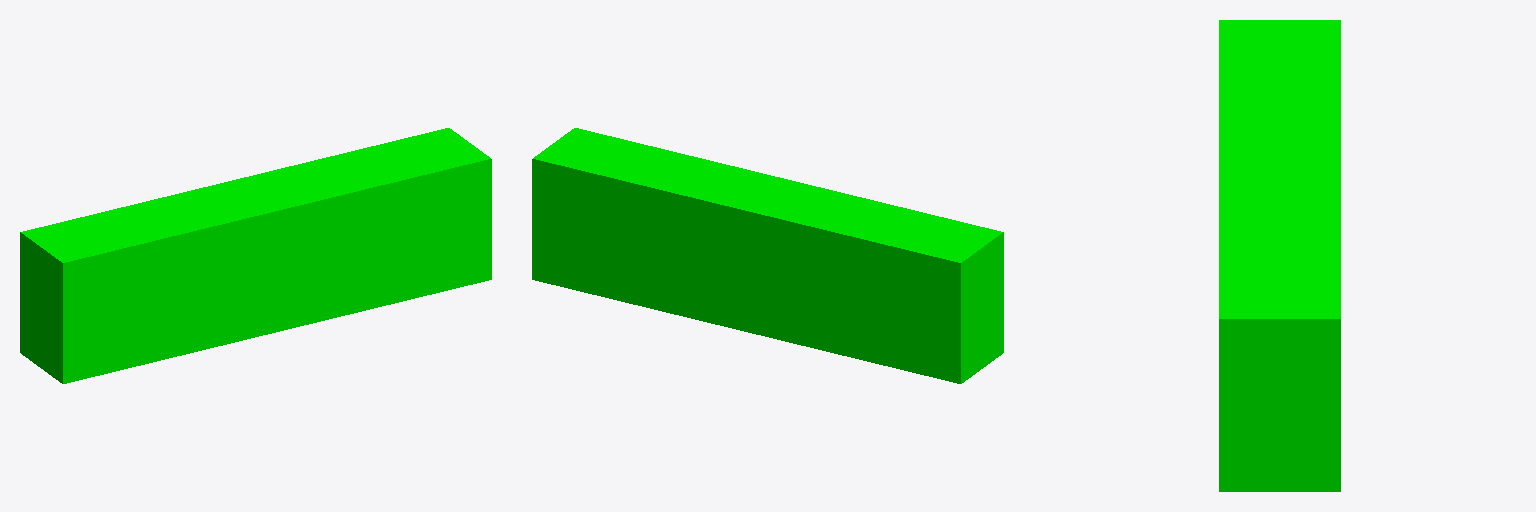
URDF robot description (saxton_cav_truck):
<?xml version="1.0"?>
<!--
  Copyright (C) 2018 LEIDOS.

  Licensed under the Apache License, Version 2.0 (the "License"); you may not
  use this file except in compliance with the License. You may obtain a copy of
  the License at

  http://www.apache.org/licenses/LICENSE-2.0

  Unless required by applicable law or agreed to in writing, software
  distributed under the License is distributed on an "AS IS" BASIS, WITHOUT
  WARRANTIES OR CONDITIONS OF ANY KIND, either express or implied. See the
  License for the specific language governing permissions and limitations under
  the License.
-->
<!-- Green Cadillac Robot Description File
    This file defines the static transformations of the CAV platform operating on the green cadillac.
    These are only example values at this time. This is to test if it works
-->
<robot name="saxton_cav_truck"> <!-- TODO Verify heights-->
  <!-- Frames -->
  <link name="base_link" /> <!-- Back Axle -->
  <link name="host_vehicle"/> <!-- Bounding box center of vehicle (used in BSM)-->
  <link name="aabb_center"> <!-- Center of the car's axis aligned bounding box -->
      <!-- Simple visual to draw box around car transforms  in rviz -->
    <visual>
      <origin xyz="0 0 0" rpy="0 0 0" />
      <geometry>
        <box size="8.74 1.5 2.362" />
      </geometry>
      <material name="Green">
        <color rgba="0.0 1.0 0.0 1.0"/>
      </material>
    </visual>
  </link>
  <link name="vehicle_front" /> <!-- Center of vehicle grill -->
  <link name="pinpoint" /> <!-- Position Sensor (Accounting for internal transforms) -->
  <!-- Radars -->
  <link name="f_lrr_frame"/> <!-- Front Long Range Radar -->

   <!-- base_link -> host_vehicle Transform -->
  <joint name="base_link_to_host_vehicle" type="fixed">
    <parent link="base_link" />
    <child link="host_vehicle" />
    <!-- Arguments (x y z roll pitch yaw) -->
    <!-- Units: Meters and Rad-->
    <origin xyz="3.37 0 -0.3556" rpy="3.14159265359 0 0" />
  </joint>

  <!-- host_vehicle -> aabb_center Transform -->
  <joint name="host_vehicle_to_aabb_center" type="fixed">
    <parent link="host_vehicle" />
    <child link="aabb_center" />
    <!-- Arguments (x y z roll pitch yaw) -->
    <!-- Units: Meters and Rad-->
    <origin xyz="0 0 -1.1" rpy="3.14159265359 0 0" />
  </joint>

  <!-- host_vehicle -> vehicle_front Transform vehicle_front is FLU-->
  <joint name="host_vehicle_to_vehicle_front" type="fixed">
    <parent link="host_vehicle" />
    <child link="vehicle_front" />
    <origin xyz="4.37 0 0" rpy="3.14159265359 0 0" />
  </joint>

  <!--base_link is center of rear axle FLU oriented x down the longitudinal axis of the vehicle-->
  <joint name="base_link_pinpoint" type="fixed">
    <parent link="base_link" />
    <child link="pinpoint" />
    <origin xyz="0 0 0" rpy="3.14159265359 0 0" />
  </joint>

  <!-- base_link -> f_lrr_frame Transform -->
  <joint name="rear_link_f_lrr_frame" type="fixed">
    <parent link="base_link"/>
    <child link="f_lrr_frame"/>
    <origin xyz="7.747 0 0" rpy="0 0 0" />
  </joint>
</robot>

--- Facts derived from the render (not from the file) ---
3 views of the same robot in one strip: view 1: azimuth 30°, elevation 25°; view 2: azimuth 150°, elevation 25°; view 3: azimuth 270°, elevation 25° (orthographic).
Robot: saxton_cav_truck — 6 links, 5 joints (5 fixed); root link base_link; default pose: all joints at 0.
Visible links, largest first — view 1: aabb_center; view 2: aabb_center; view 3: aabb_center.
Boxes of the visible links, x1=… form: aabb_center: x1=20, y1=128, x2=491, y2=383; aabb_center: x1=532, y1=128, x2=1003, y2=383; aabb_center: x1=1219, y1=20, x2=1340, y2=491.
Size in the robot's own frame: 8.74 by 1.5 by 2.36 metres.
Geometry: primitives only (box / cylinder / sphere), no mesh files.
